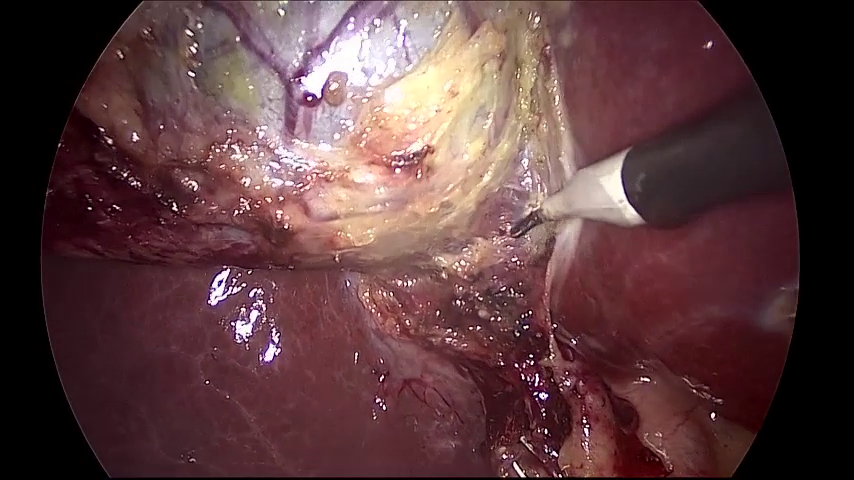lhook: (505, 89, 792, 237)
